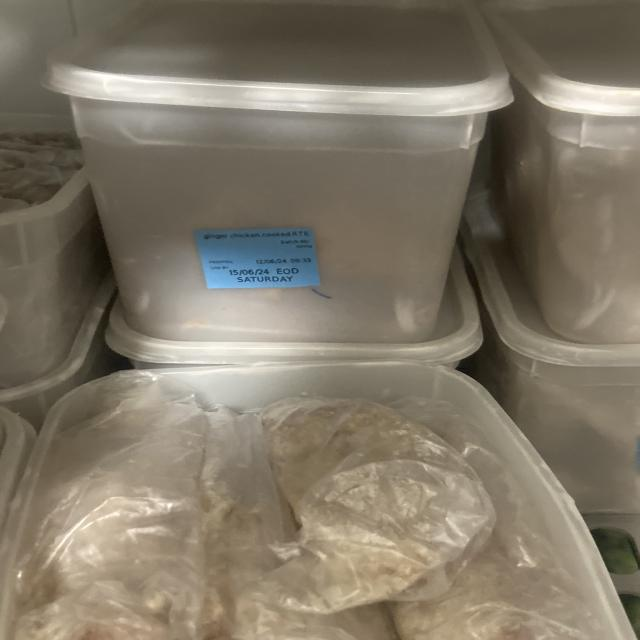product-labels: (195, 226, 321, 291)
